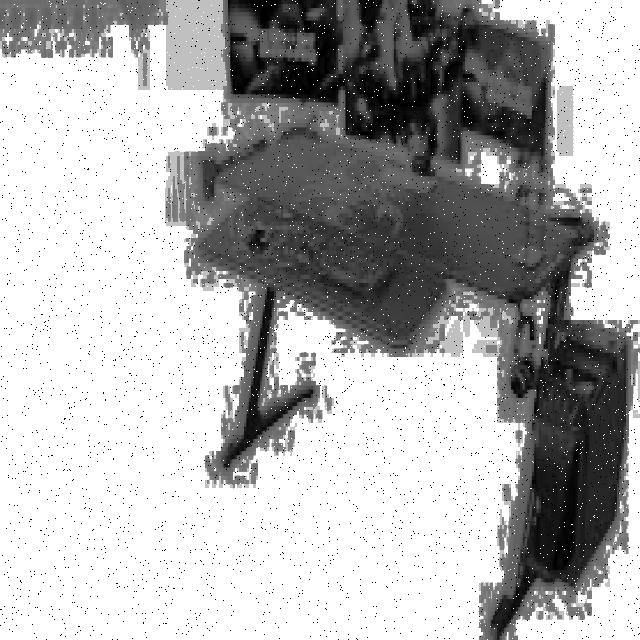table: (196, 119, 603, 636)
